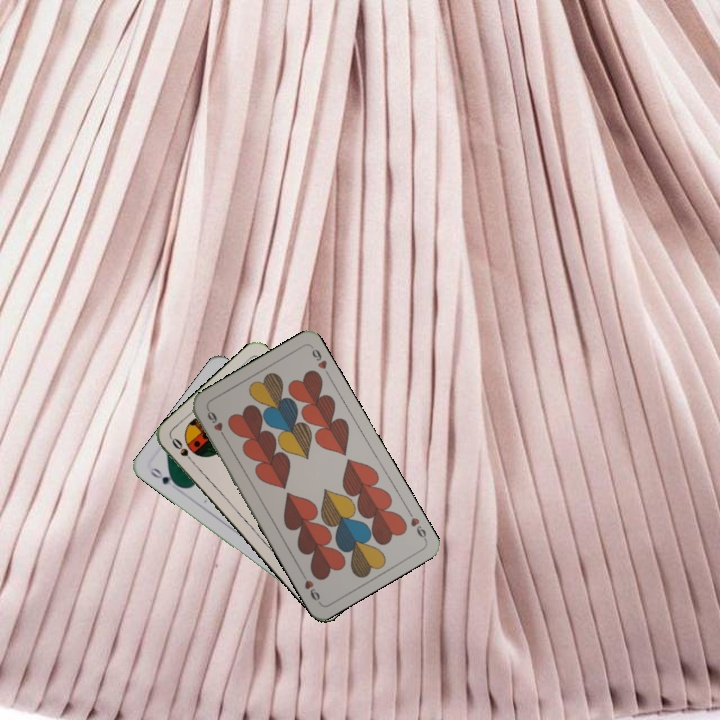GO: (146, 463, 183, 490)
H9: (203, 405, 229, 442), (403, 506, 429, 543)
SO: (168, 434, 198, 468)
